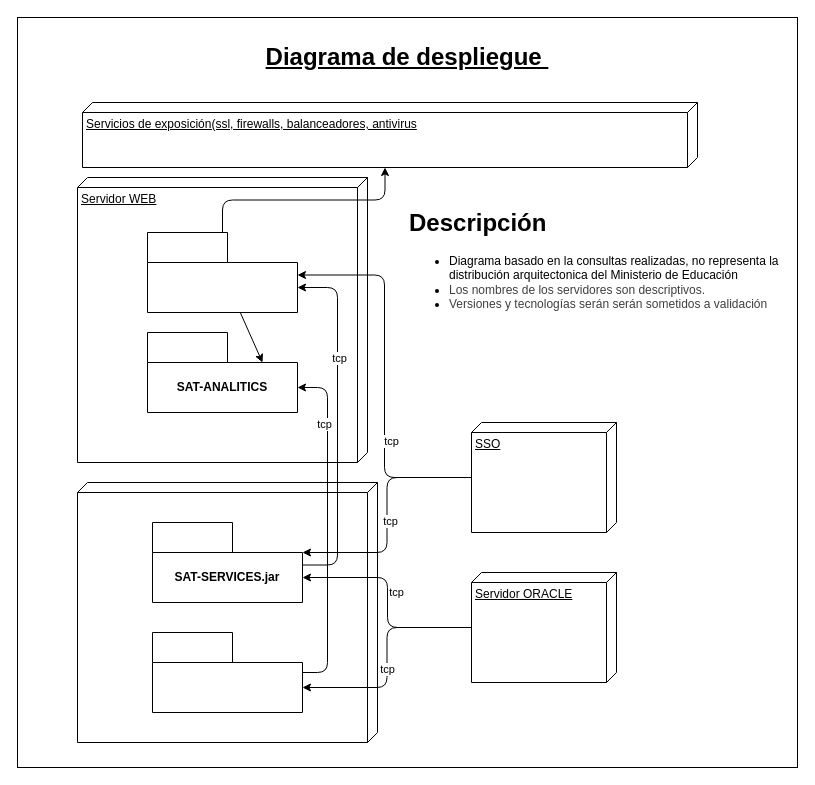
This 815x785 diagram has some shape labels left out. Here are the shapes that lost their labels. From the top down, the box of each, then its label:
(146, 232, 298, 312): SAT-WEB
(76, 482, 378, 742): Serivodr BackEND
(152, 632, 302, 712): SAT-ETL-ANALITICS
